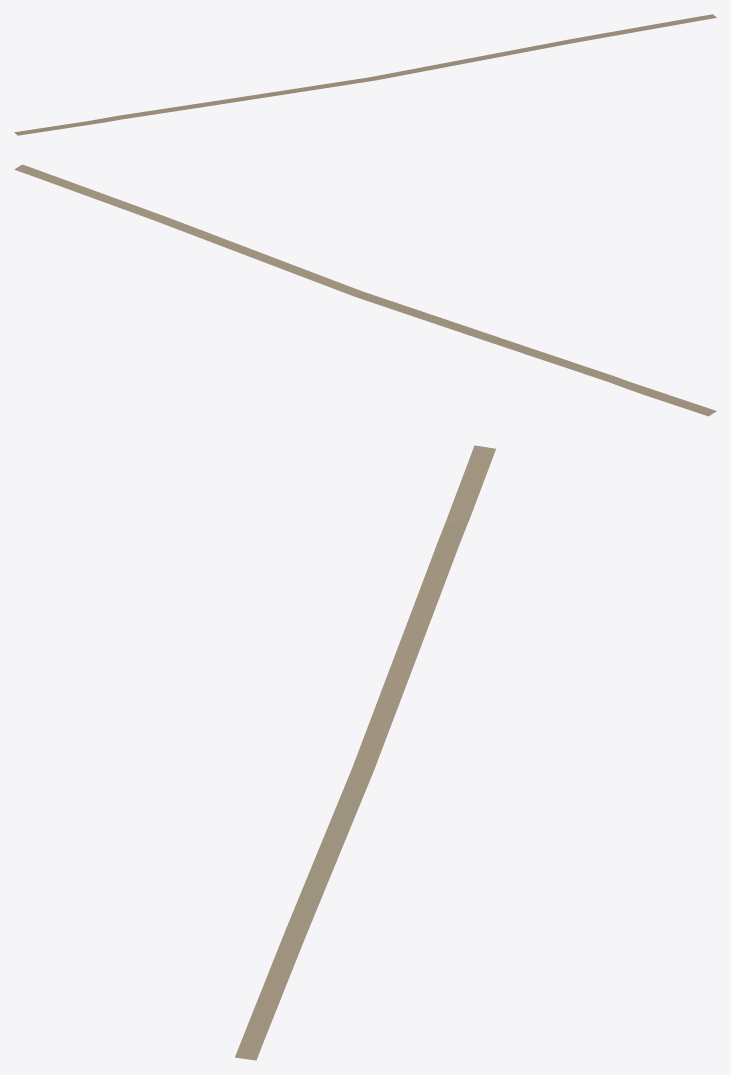
Rendered from farm_-29_-23_track.glb.
The picture shows the model from 3 angles, top to bottom: view 1: azimuth 30°, elevation 25°; view 2: azimuth 150°, elevation 25°; view 3: azimuth 270°, elevation 25°; orthographic projection. The views are drawn at different scales.
Parts seen in each view (by area): view 1: geometry_0; view 2: geometry_0; view 3: geometry_0.
Part boxes in pixels (bbox=[...]): geometry_0: bbox=[14, 14, 716, 135]; geometry_0: bbox=[14, 164, 716, 416]; geometry_0: bbox=[235, 445, 495, 1060].
Size of the model in its own units: 221 by 2.87 by 39.04.
